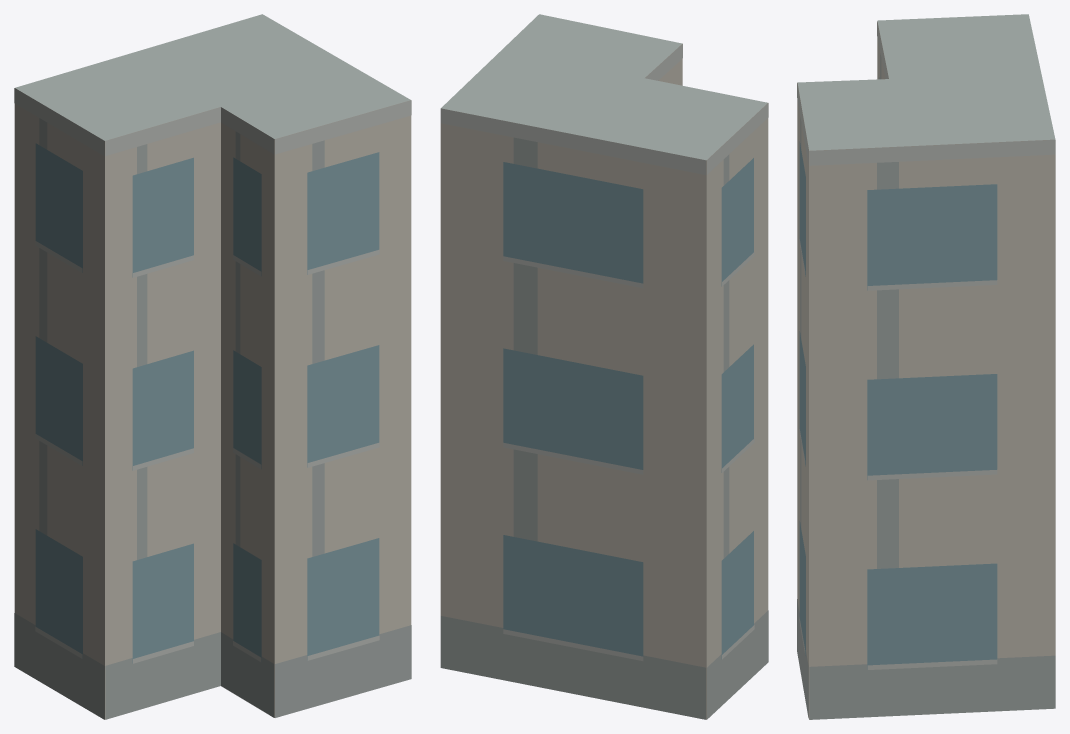
Rendered from survey-upis-32633663.glb.
The picture shows the model from 3 angles, left to right: view 1: azimuth 30°, elevation 25°; view 2: azimuth 150°, elevation 25°; view 3: azimuth 270°, elevation 25°; orthographic projection. The views are drawn at different scales.
Parts seen in each view (by area): view 1: survey-upis-32633663.tmp; view 2: survey-upis-32633663.tmp; view 3: survey-upis-32633663.tmp.
Boxes of the visible parts, x1,y1,x2,y2 form: survey-upis-32633663.tmp: (14,14,411,719); survey-upis-32633663.tmp: (440,14,768,719); survey-upis-32633663.tmp: (797,14,1055,719).
Bounding box in the file's own units: 4.72 × 9.15 × 3.77.
